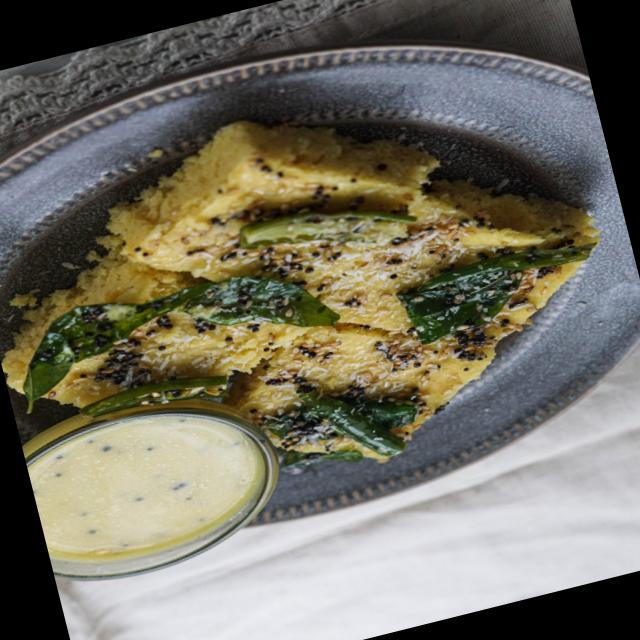dhokla: (0, 60, 611, 537)
